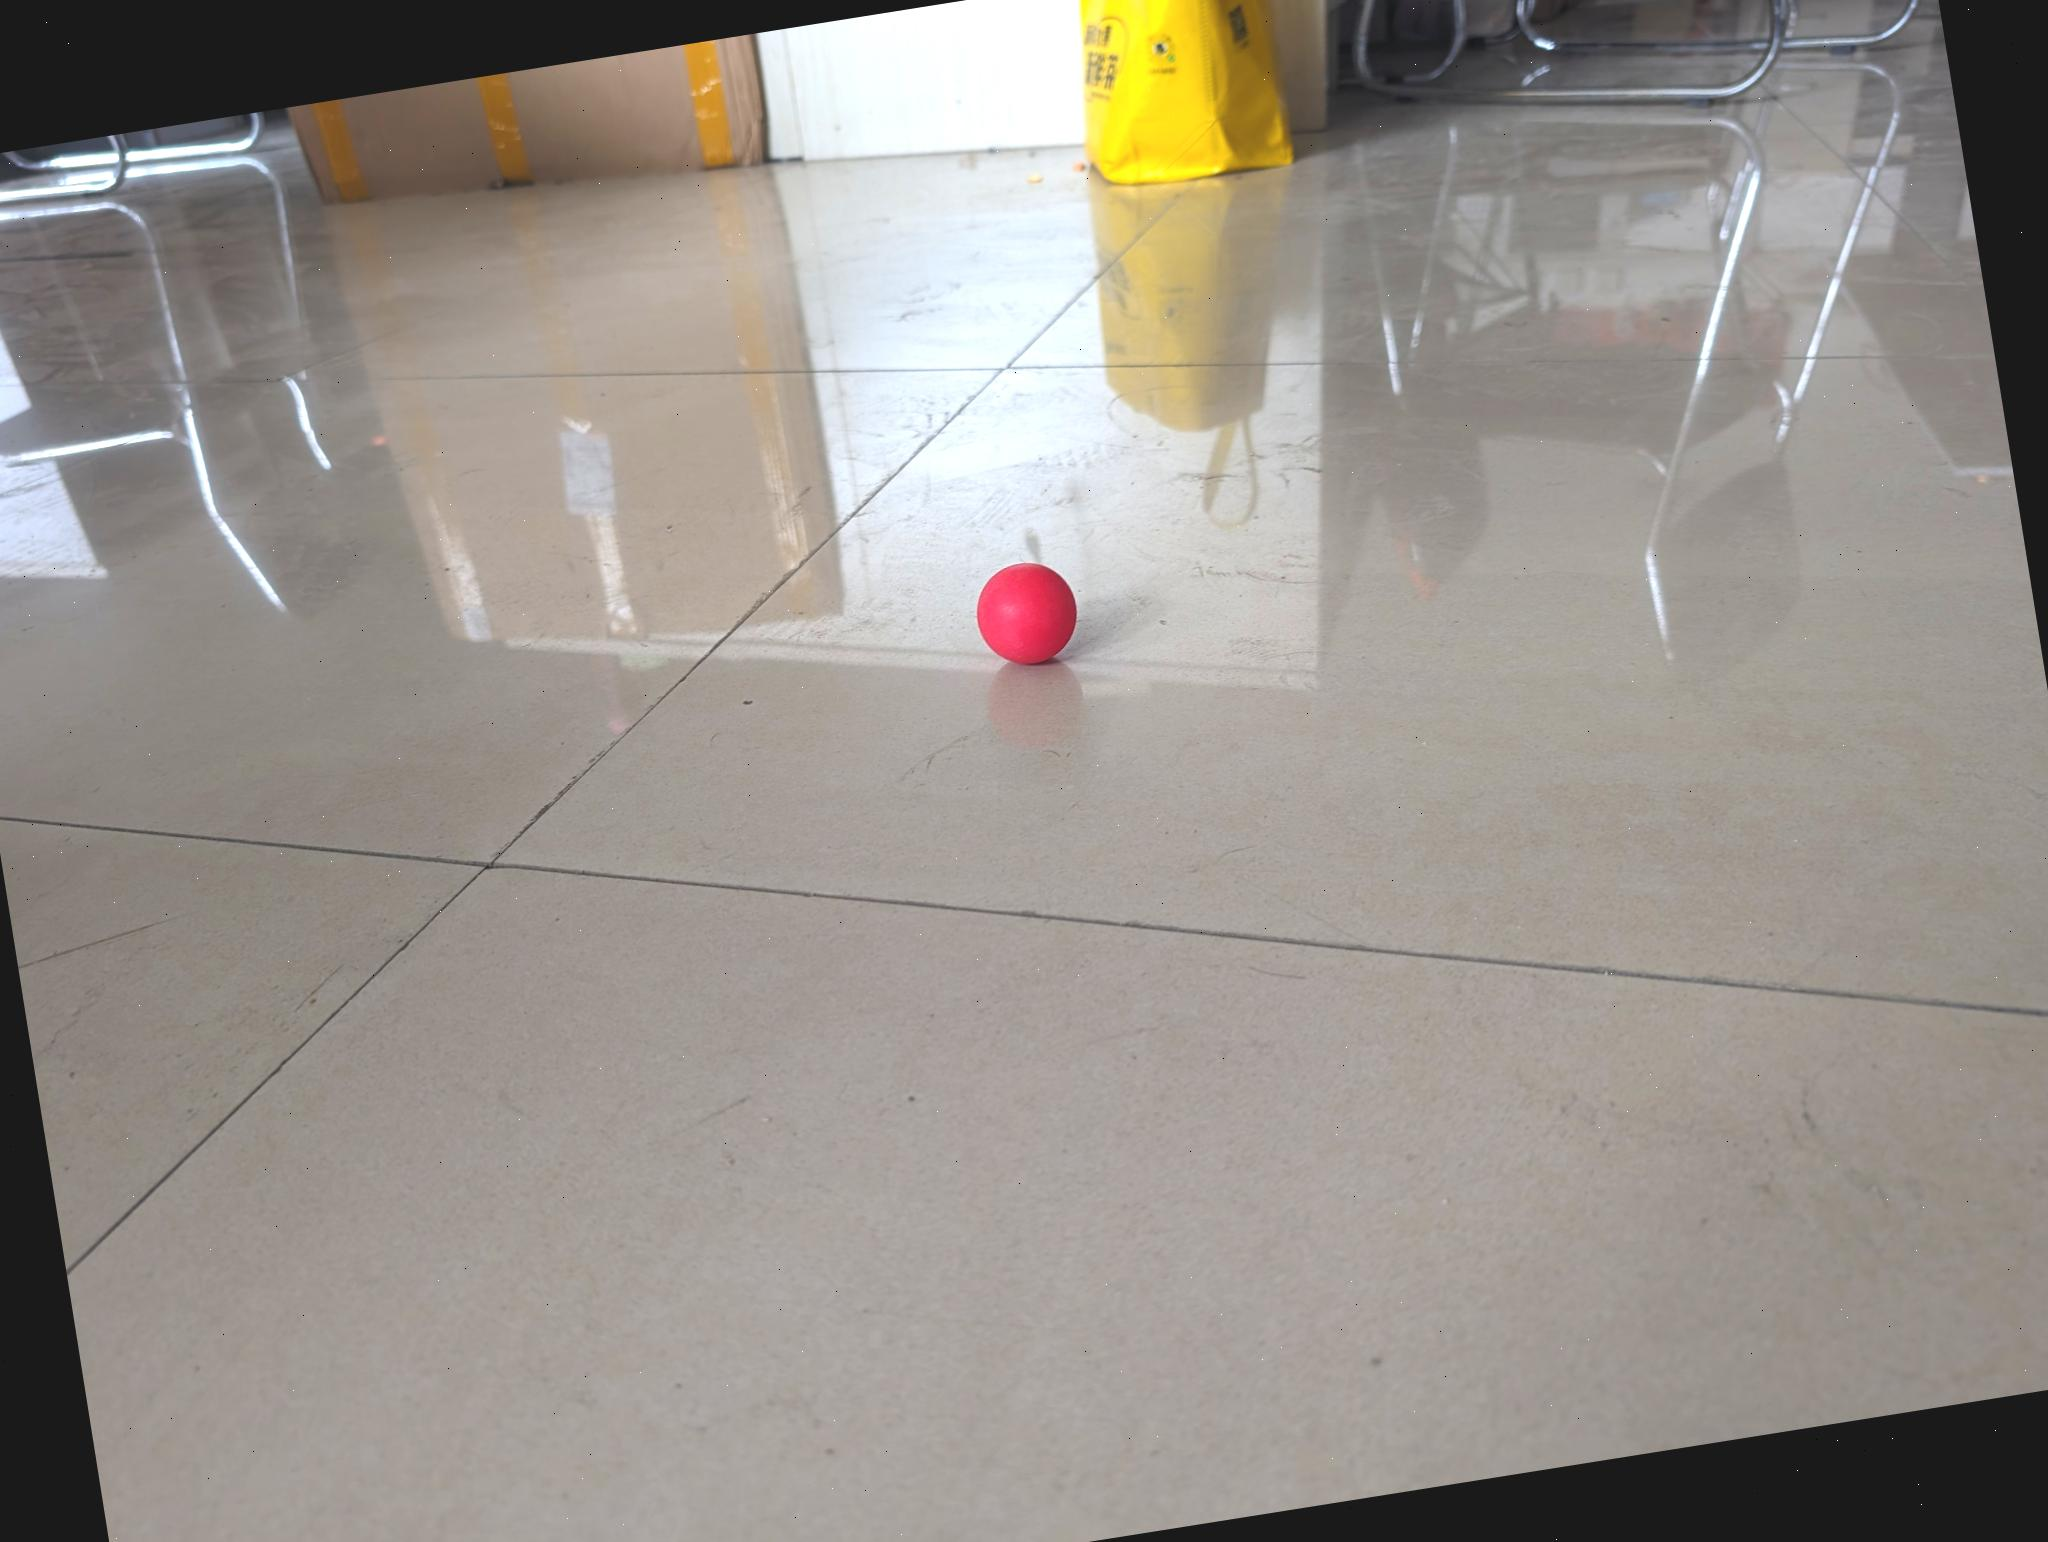ball: (973, 549, 1083, 675)
